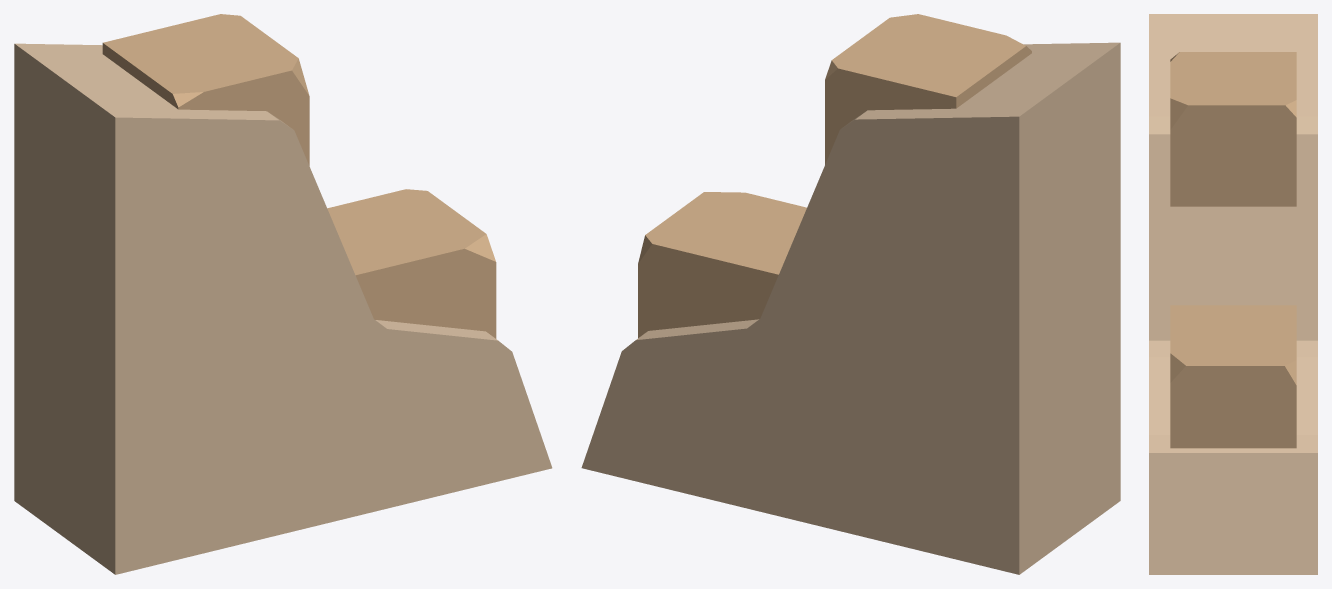
Rendered from Wall_Ruined_Corner_Outer_1.obj.
3 renders of one model, left to right at view 1: azimuth 30°, elevation 25°; view 2: azimuth 150°, elevation 25°; view 3: azimuth 270°, elevation 25°, orthographic. The views are drawn at different scales.
Visible parts, largest first — view 1: object2, object1, object3; view 2: object2, object1, object3; view 3: object2, object3, object1.
Boxes of the visible parts, box(x1,y1,x2,y2) form: object2: box(14, 43, 552, 574); object1: box(327, 189, 496, 338); object3: box(102, 14, 309, 165); object2: box(581, 42, 1120, 574); object1: box(638, 192, 806, 337); object3: box(825, 14, 1031, 164); object2: box(1149, 14, 1317, 574); object3: box(1170, 52, 1296, 206); object1: box(1170, 305, 1296, 448).
Size of the model in its own units: 0.5 by 0.5 by 0.2.
